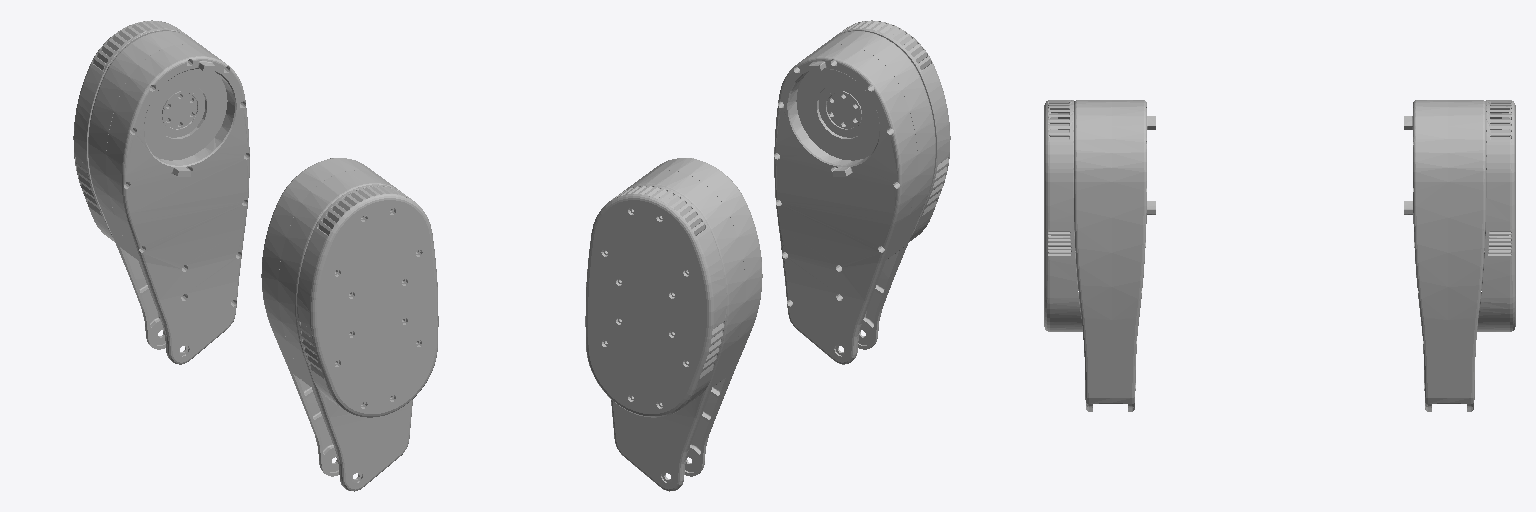
robot.urdf — birdy_v1:
<?xml version="1.0" ?>
<!-- =================================================================================== -->
<!-- |    This document was autogenerated by xacro from birdy_v1.xacro             | -->
<!-- |    EDITING THIS FILE BY HAND IS NOT RECOMMENDED                                 | -->
<!-- =================================================================================== -->
<robot name="birdy_v1">
<!--<link name="world">
</link>-->
<!--<joint name="joint_fixed_world" type="floating">
  <origin rpy="0 0 0" xyz="0 0 0.65"/>
  <parent link="world"/>
  <child link="link_trunk"/>
</joint>-->
  <link name="link_trunk">
    <inertial>
      <origin rpy="0 0 0" xyz="0.1 0 0.0272"/>
      <mass value="4.1878"/>
      <inertia ixx="14233034E-09" ixy="95885E-09" ixz="-368373E-09" iyy="33518265E-09" iyz="144563E-09" izz="36870672E-09"/>
    </inertial>
    <visual>
      <origin rpy="0 0 0" xyz="0 0 0"/>
      <geometry>
        <mesh filename="package://birdy_v1/meshes//TRUNK.STL"/>
      </geometry>
      <material name="">
        <color rgba="0.79216 0.81961 0.93333 1"/>
      </material>
    </visual>
  </link>
  <link name="link_left_hip1">
    <inertial>
      <origin rpy="0 0 0" xyz="0.0258 0.0003 0.0072"/>
      <mass value="0.4618"/>
      <inertia ixx="526520E-09" ixy="-2600E-09" ixz="-15578E-09" iyy="410196E-09" iyz="-650E-09" izz="288565E-09"/>
    </inertial>
    <visual>
      <origin rpy="0 0 0" xyz="0 0 0"/>
      <geometry>
        <mesh filename="package://birdy_v1/meshes//HIP_ROLL_MOTOR_left.STL"/>
      </geometry>
      <material name="">
        <color rgba="0.752941176470588 0.752941176470588 0.752941176470588 1"/>
      </material>
    </visual>
  </link>
  <joint name="joint_left_hip_yaw" type="revolute">
    <origin rpy="0 0 0" xyz="0.0 -0.061 -0.078"/>
    <parent link="link_trunk"/>
    <child link="link_left_hip1"/>
    <axis xyz="0 0 1"/>
    <limit effort="0" lower="-2.9845105" upper="2.9845105" velocity="0"/>
  </joint>
  <link name="link_left_hip2">
    <inertial>
      <origin rpy="0 0 0" xyz="0.0014  -0.0362 0.0"/>
      <mass value="0.4221"/>
      <inertia ixx="272070E-09" ixy="25300E-09" ixz="-22.5E-09" iyy="401974E-09" iyz="-141E-09" izz="312156E-09"/>
    </inertial>
    <visual>
      <origin rpy="0 0 0" xyz="0 0 0"/>
      <geometry>
        <mesh filename="package://birdy_v1/meshes//HIP_PITCH_MOTOR_left.STL"/>
      </geometry>
      <material name="">
        <color rgba="0.752941176470588 0.752941176470588 0.752941176470588 1"/>
      </material>
    </visual>
  </link>
  <joint name="joint_left_hip_roll" type="revolute">
    <origin rpy="0 0 0" xyz="-0.04 0 0"/>
    <parent link="link_left_hip1"/>
    <child link="link_left_hip2"/>
    <axis xyz="1 0 0"/>
    <limit effort="0" lower="-3.14" upper="3.14" velocity="0"/>
  </joint>
  <link name="link_left_thigh">
    <inertial>
      <origin rpy="0 0 0" xyz="0.0019 -0.0168 -0.0491"/>
      <mass value="1.2707"/>
      <inertia ixx="4720500E-09" ixy="21479E-09" ixz="-188300E-09" iyy="5119350E-09" iyz="-105700E-09" izz="1506438E-09"/>
    </inertial>
    <visual>
      <origin rpy="0 0 0" xyz="0 0 0"/>
      <geometry>
        <mesh filename="package://birdy_v1/meshes//THIGH_left.STL"/>
      </geometry>
      <material name="">
        <color rgba="0.752941176470588 0.752941176470588 0.752941176470588 1"/>
      </material>
    </visual>
  </link>
  <joint name="joint_left_thigh_pitch" type="revolute">
    <origin rpy="0 0 0 " xyz="0 -0.0715 0.0"/>
    <parent link="link_left_hip2"/>
    <child link="link_left_thigh"/>
    <axis xyz="0 1 0"/>
    <limit effort="0" lower="-3.14" upper="3.14" velocity="0"/>
  </joint>
  <link name="link_left_calf">
    <inertial>
      <origin rpy="0 0 0" xyz="0.02422 0.0 -0.103491"/>
      <mass value="0.218165"/>
      <inertia ixx="1353146E-09" ixy="-307E-09" ixz="13829E-09" iyy="1400170E-09" iyz="-624E-09" izz="102949E-09"/>
    </inertial>
    <visual>
      <origin rpy="0 0 0" xyz="0 0 0"/>
      <geometry>
        <mesh filename="package://birdy_v1/meshes//CALF_left.STL"/>
      </geometry>
      <material name="">
        <color rgba="0.752941176470588 0.752941176470588 0.752941176470588 1"/>
      </material>
    </visual>
  </link>
  <joint name="joint_left_calf_pitch" type="revolute">
    <origin rpy="0 0 0" xyz="0 0 -0.20"/>
    <parent link="link_left_thigh"/>
    <child link="link_left_calf"/>
    <axis xyz="0 1 0"/>
    <limit effort="0" lower="-3.14" upper="3.14" velocity="0"/>
  </joint>
  <link name="link_left_foot">
    <inertial>
      <origin rpy="0 0 0" xyz="0.0065 0 -0.044826"/>
      <mass value="0.150205"/>
      <inertia ixx="104290E-09" ixy="-327E-09" ixz="86545E-09" iyy="283559E-09" iyz="-140E-09" izz="209594E-09"/>
    </inertial>
    <visual>
      <origin rpy="0 0 0" xyz="0 0 0"/>
      <geometry>
        <mesh filename="package://birdy_v1/meshes//FOOT_HEEL.STL"/>
      </geometry>
      <material name="">
        <color rgba="0.752941176470588 0.752941176470588 0.752941176470588 1"/>
      </material>
    </visual>
    <visual>
      <origin rpy="0 0 0" xyz="0 0 0"/>
      <geometry>
        <mesh filename="package://birdy_v1/meshes//FOOT_TOE.STL"/>
      </geometry>
      <material name="">
        <color rgba="0.752941176470588 0.752941176470588 0.752941176470588 1"/>
      </material>
    </visual>
    <visual>
      <origin rpy="0 0 0" xyz="0 0 0"/>
      <geometry>
        <mesh filename="package://birdy_v1/meshes//FOOT_SHOE.STL"/>
      </geometry>
      <material name="">
        <color rgba="0.752941176470588 0.752941176470588 0.752941176470588 1"/>
      </material>
    </visual>
  </link>
  <joint name="joint_left_ankle" type="revolute">
    <origin rpy="0 0 0" xyz="0 0 -0.25"/>
    <parent link="link_left_calf"/>
    <child link="link_left_foot"/>
    <axis xyz="0 1 0"/>
    <limit effort="0" lower="-3.14" upper="3.14" velocity="0"/>
  </joint>
  <link name="link_right_hip1">
    <inertial>
      <origin rpy="0 0 0" xyz="0.0258 -0.0003 0.0072"/>
      <mass value="0.4618"/>
      <inertia ixx="526520E-09" ixy="2600E-09" ixz="-15578E-09" iyy="410196E-09" iyz="650E-09" izz="288565E-09"/>
    </inertial>
    <visual>
      <origin rpy="0 0 0" xyz="0 0 0"/>
      <geometry>
        <mesh filename="package://birdy_v1/meshes//HIP_ROLL_MOTOR_right.STL"/>
      </geometry>
      <material name="">
        <color rgba="0.752941176470588 0.752941176470588 0.752941176470588 1"/>
      </material>
    </visual>
  </link>
  <joint name="joint_right_hip_yaw" type="revolute">
    <origin rpy="0 0 0" xyz="0.0  0.061 -0.078"/>
    <parent link="link_trunk"/>
    <child link="link_right_hip1"/>
    <axis xyz="0 0 1"/>
    <limit effort="0" lower="-2.9845105" upper="2.9845105" velocity="0"/>
  </joint>
  <link name="link_right_hip2">
    <inertial>
      <origin rpy="0 0 0" xyz="0.0014 0.0362 0.0"/>
      <mass value="0.4221"/>
      <inertia ixx="272070E-09" ixy="-25300E-09" ixz="22.5E-09" iyy="401974E-09" iyz="-141E-09" izz="312156E-09"/>
    </inertial>
    <visual>
      <origin rpy="0 0 0" xyz="0 0 0"/>
      <geometry>
        <mesh filename="package://birdy_v1/meshes//HIP_PITCH_MOTOR_right.STL"/>
      </geometry>
      <material name="">
        <color rgba="0.752941176470588 0.752941176470588 0.752941176470588 1"/>
      </material>
    </visual>
  </link>
  <joint name="joint_right_hip_roll" type="revolute">
    <origin rpy="0 0 0" xyz="-0.04 0 0"/>
    <parent link="link_right_hip1"/>
    <child link="link_right_hip2"/>
    <axis xyz="1 0 0"/>
    <limit effort="0" lower="-3.14" upper="3.14" velocity="0"/>
  </joint>
  <link name="link_right_thigh">
    <inertial>
      <origin rpy="0 0 0" xyz="0.0019 0.0168 -0.0491"/>
      <mass value="1.2707"/>
      <inertia ixx="4720500E-09" ixy="-21479E-09" ixz="-188300E-09" iyy="5119350E-09" iyz="105700E-09" izz="1506438E-09"/>
    </inertial>
    <visual>
      <origin rpy="0 0 0" xyz="0 0 0"/>
      <geometry>
        <mesh filename="package://birdy_v1/meshes//THIGH_right.STL"/>
      </geometry>
      <material name="">
        <color rgba="0.752941176470588 0.752941176470588 0.752941176470588 1"/>
      </material>
    </visual>
  </link>
  <joint name="joint_right_thigh_pitch" type="revolute">
    <origin rpy="0 0 0 " xyz="0  0.0715 0.0"/>
    <parent link="link_right_hip2"/>
    <child link="link_right_thigh"/>
    <axis xyz="0 1 0"/>
    <limit effort="0" lower="-3.14" upper="3.14" velocity="0"/>
  </joint>
  <link name="link_right_calf">
    <inertial>
      <origin rpy="0 0 0" xyz="0.02422 0.0 -0.103491"/>
      <mass value="0.21302"/>
      <inertia ixx="1353146E-09" ixy="307E-09" ixz="13829E-09" iyy="1400170E-09" iyz="624E-09" izz="102949E-09"/>
    </inertial>
    <visual>
      <origin rpy="0 0 0" xyz="0 0 0"/>
      <geometry>
        <mesh filename="package://birdy_v1/meshes//CALF_right.STL"/>
      </geometry>
      <material name="">
        <color rgba="0.752941176470588 0.752941176470588 0.752941176470588 1"/>
      </material>
    </visual>
  </link>
  <joint name="joint_right_calf_pitch" type="revolute">
    <origin rpy="0 0 0" xyz="0 0 -0.20"/>
    <parent link="link_right_thigh"/>
    <child link="link_right_calf"/>
    <axis xyz="0 1 0"/>
    <limit effort="0" lower="-3.14" upper="3.14" velocity="0"/>
  </joint>
  <link name="link_right_foot">
    <inertial>
      <origin rpy="0 0 0" xyz="0.0065 0 -0.044826"/>
      <mass value="0.150205"/>
      <inertia ixx="104290E-09" ixy="-327E-09" ixz="86545E-09" iyy="283559E-09" iyz="-140E-09" izz="209594E-09"/>
    </inertial>
    <visual>
      <origin rpy="0 0 0" xyz="0 0 0"/>
      <geometry>
        <mesh filename="package://birdy_v1/meshes//FOOT_HEEL.STL"/>
      </geometry>
      <material name="">
        <color rgba="0.752941176470588 0.752941176470588 0.752941176470588 1"/>
      </material>
    </visual>
    <visual>
      <origin rpy="0 0 0" xyz="0 0 0"/>
      <geometry>
        <mesh filename="package://birdy_v1/meshes//FOOT_TOE.STL"/>
      </geometry>
      <material name="">
        <color rgba="0.752941176470588 0.752941176470588 0.752941176470588 1"/>
      </material>
    </visual>
    <visual>
      <origin rpy="0 0 0" xyz="0 0 0"/>
      <geometry>
        <mesh filename="package://birdy_v1/meshes//FOOT_SHOE.STL"/>
      </geometry>
      <material name="">
        <color rgba="0.752941176470588 0.752941176470588 0.752941176470588 1"/>
      </material>
    </visual>
  </link>
  <joint name="joint_right_ankle" type="revolute">
    <origin rpy="0 0 0" xyz="0 0 -0.25"/>
    <parent link="link_right_calf"/>
    <child link="link_right_foot"/>
    <axis xyz="0 1 0"/>
    <limit effort="0" lower="-3.14" upper="3.14" velocity="0"/>
  </joint>

  <link name="link_arm_yaw_motor">
    <inertial>
      <origin rpy="0 0 0" xyz="0.001 -0.0004 -0.0193"/>
      <mass value="0.3869"/>
      <inertia ixx="232068E-09" ixy="81E-09" ixz="-302E-09" iyy="244432E-09" iyz="-3117E-09" izz="339832E-09"/>
    </inertial>
    <visual>
      <origin rpy="0 0 0" xyz="0 0 0"/>
      <geometry>
        <mesh filename="package://birdy_v1/meshes//ARM_YAW_MOTOR.STL"/>
      </geometry>
      <material name="">
        <color rgba="0.752941176470588 0.752941176470588 0.752941176470588 1"/>
      </material>
    </visual>
  </link>
  <joint name="joint_base_fixed" type="fixed">
    <origin rpy="0 0 0" xyz="0.0 0 0.078"/>
    <parent link="link_trunk"/>
    <child link="link_arm_yaw_motor"/>
    <axis xyz="0 0 1"/>
    <limit effort="0" lower="-2" upper="2" velocity="0"/>
  </joint>
  <link name="link_arm_pitch_motor">
    <inertial>
      <origin rpy="0 0 0" xyz="0.0 -0.0041 -0.0018"/>
      <mass value="0.4377"/>
      <inertia ixx="301263E-09" ixy="208E-09" ixz="234E-09" iyy="417629E-09" iyz="-3328E-09" izz="273852E-09"/>
    </inertial>
    <visual>
      <origin rpy="0 0 0" xyz="0 0 0"/>
      <geometry>
        <mesh filename="package://birdy_v1/meshes//ARM_PITCH_MOTOR.STL"/>
      </geometry>
      <material name="">
        <color rgba="0.752941176470588 0.752941176470588 0.752941176470588 1"/>
      </material>
    </visual>
  </link>
  <joint name="joint_shoulder_yaw" type="revolute">
    <origin rpy="0 0 0" xyz="0 0 0.05"/>
    <parent link="link_arm_yaw_motor"/>
    <child link="link_arm_pitch_motor"/>
    <axis xyz="0 0 1"/>
    <limit effort="0" lower="-2" upper="2" velocity="0"/>
  </joint>
  <link name="link_arm_lower">
    <inertial>
      <origin rpy="0 0 0" xyz="-0.0098 0.0043 -0.1525"/>
      <mass value="0.6706"/>
      <inertia ixx="3815212E-09" ixy="21501E-09" ixz="-327614E-09" iyy="4196055E-09" iyz="114174E-09" izz="582055E-09"/>
    </inertial>
    <visual>
      <origin rpy="0 0 0" xyz="0 0 0"/>
      <geometry>
        <mesh filename="package://birdy_v1/meshes//ARM_LOWER.STL"/>
      </geometry>
      <material name="">
        <color rgba="0.752941176470588 0.752941176470588 0.752941176470588 1"/>
      </material>
    </visual>
  </link>
  <joint name="joint_shoulder_pitch" type="revolute">
    <origin rpy="0 0 0" xyz="0 0 0"/>
    <parent link="link_arm_pitch_motor"/>
    <child link="link_arm_lower"/>
    <axis xyz="0 1 0"/>
    <limit effort="0" lower="-2" upper="2" velocity="0"/>
  </joint>
  <link name="link_arm_upper">
    <inertial>
      <origin rpy="0 0 0" xyz="-0.0088 -0.0027 0.2385"/>
      <mass value="0.8447"/>
      <inertia ixx="15821722E-09" ixy="-21885E-09" ixz="1399914E-09" iyy="16373036E-09" iyz="-114650E-09" izz="856969E-09"/>
    </inertial>
    <visual>
      <origin rpy="0 0 0" xyz="0 0 0"/>
      <geometry>
        <mesh filename="package://birdy_v1/meshes//ARM_UPPER.STL"/>
      </geometry>
      <material name="">
        <color rgba="0.752941176470588 0.752941176470588 0.752941176470588 1"/>
      </material>
    </visual>
  </link>
  <joint name="joint_elbow_pitch" type="revolute">
    <origin rpy="0 0 0" xyz="0 0 -0.2"/>
    <parent link="link_arm_lower"/>
    <child link="link_arm_upper"/>
    <axis xyz="0 1 0"/>
    <limit effort="0" lower="-2" upper="2" velocity="0"/>
  </joint>
  <link name="link_arm_end">
    <inertial>
      <origin rpy="0 0 0" xyz="-0.0481 0.0043 0.0121"/>
      <mass value="0.1228"/>
      <inertia ixx="109814E-09" ixy="26439E-09" ixz="-13472E-09" iyy="184335E-09" iyz="-6657E-09" izz="204264E-09"/>
    </inertial>
    <visual>
      <origin rpy="0 0 0" xyz="0 0 0"/>
      <geometry>
        <mesh filename="package://birdy_v1/meshes//ARM_END.STL"/>
      </geometry>
      <material name="">
        <color rgba="0.752941176470588 0.752941176470588 0.752941176470588 1"/>
      </material>
    </visual>
  </link>
  <joint name="joint_wrist_pitch" type="revolute">
    <origin rpy="0 0 0" xyz="0 0 0.35"/>
    <parent link="link_arm_upper"/>
    <child link="link_arm_end"/>
    <axis xyz="0 1 0"/>
    <limit effort="0" lower="-2" upper="2" velocity="0"/>
  </joint>
  <link name="dummy_arm_ee">
  </link>
  <joint name="joint_arm_ee_fixed" type="fixed">
    <origin rpy="0 0 0" xyz="0 0 0"/>
    <parent link="link_arm_end"/>
    <child link="dummy_arm_ee"/>
  </joint>
</robot>

--- Facts derived from the render (not from the file) ---
The picture shows the robot from 3 angles, left to right: view 1: azimuth 30°, elevation 25°; view 2: azimuth 150°, elevation 25°; view 3: azimuth 270°, elevation 25°; orthographic projection.
Robot: birdy_v1 — 17 links, 16 joints (14 revolute, 2 fixed); root link link_trunk; default pose: every joint at zero.
Links seen in each view (by area): view 1: link_right_thigh, link_left_thigh; view 2: link_left_thigh, link_right_thigh; view 3: link_left_thigh, link_right_thigh.
Link boxes in pixels (bbox=[...]): link_right_thigh: bbox=[73, 20, 249, 364]; link_left_thigh: bbox=[261, 158, 438, 491]; link_left_thigh: bbox=[774, 20, 950, 364]; link_right_thigh: bbox=[585, 158, 762, 491]; link_left_thigh: bbox=[1044, 100, 1155, 411]; link_right_thigh: bbox=[1404, 100, 1515, 411].
Bounding box of the posed robot: 0.1133 × 0.368 × 0.2622 m (x, y, z).
2 mesh visuals loaded from 17 distinct referenced files (2 binary STL); not drawn: 18 (reference not matched to a file when rendering).